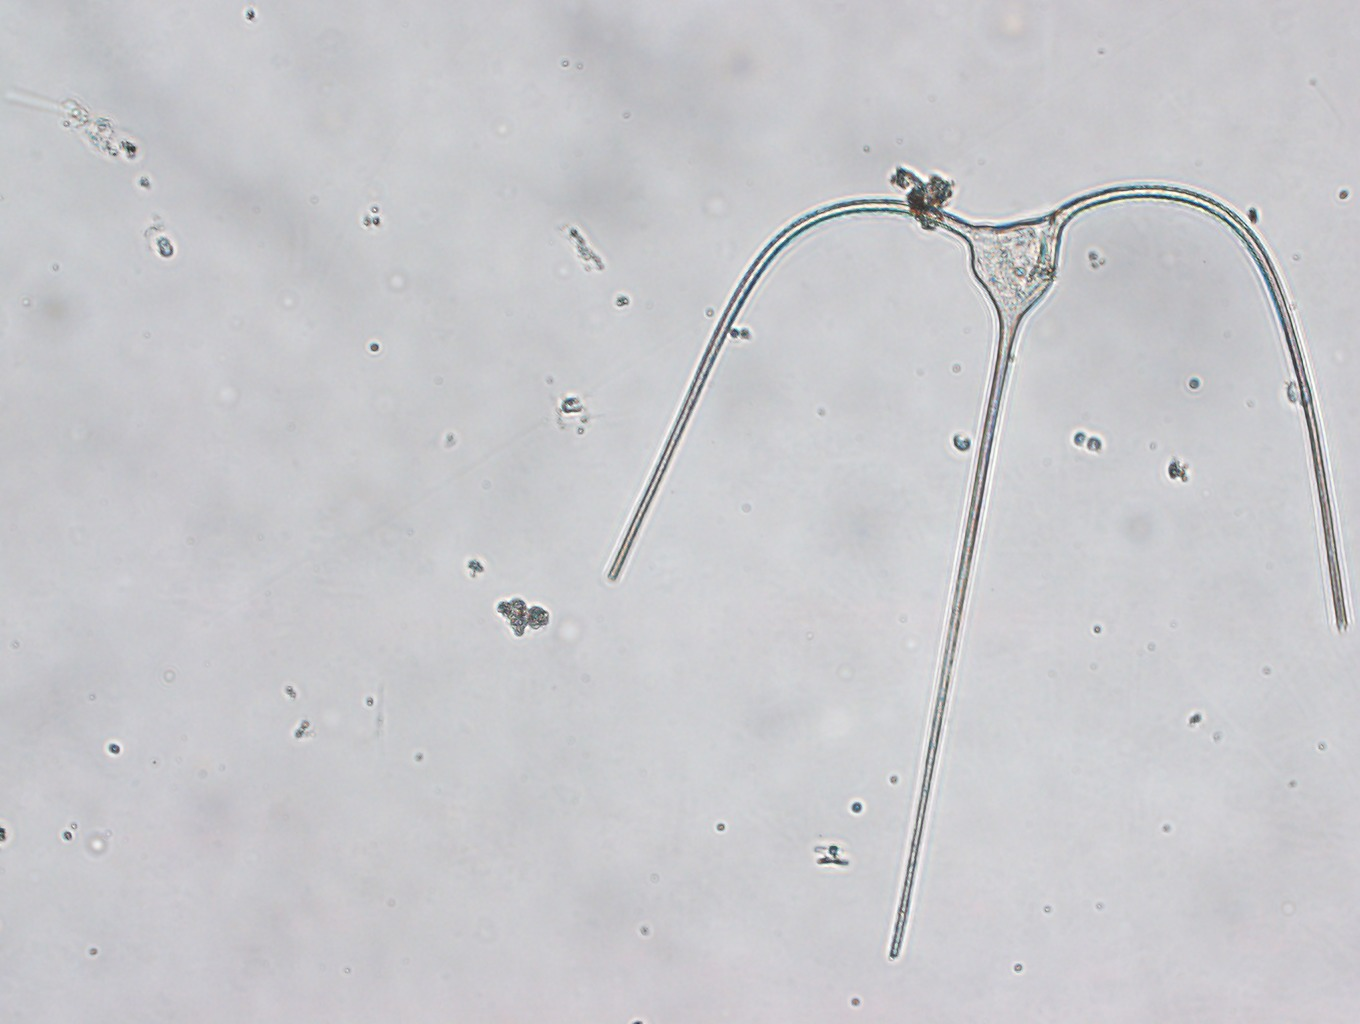ceratium trichoceros: (609, 177, 1350, 959)
